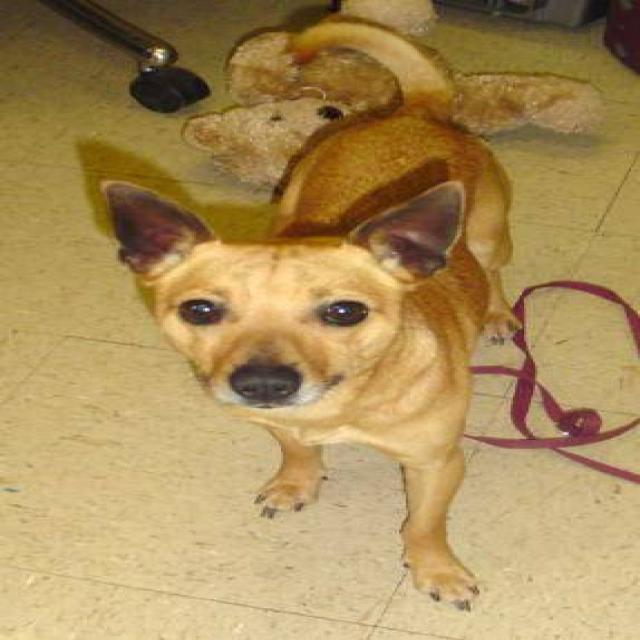cat: (59, 10, 559, 604)
